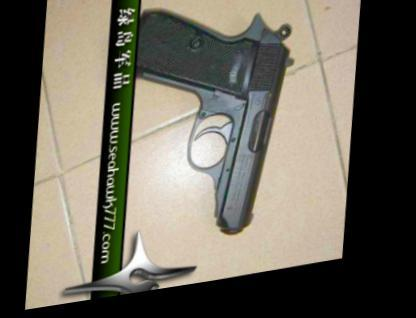pistol: (122, 0, 321, 256)
